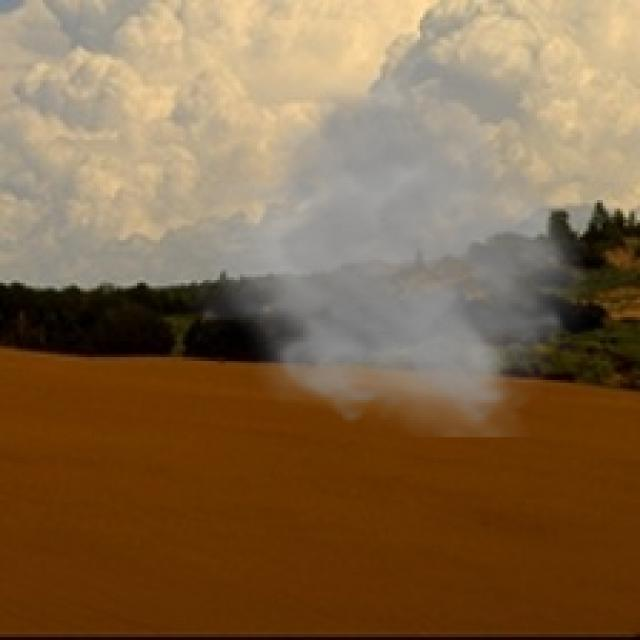smoke: (186, 32, 597, 437)
